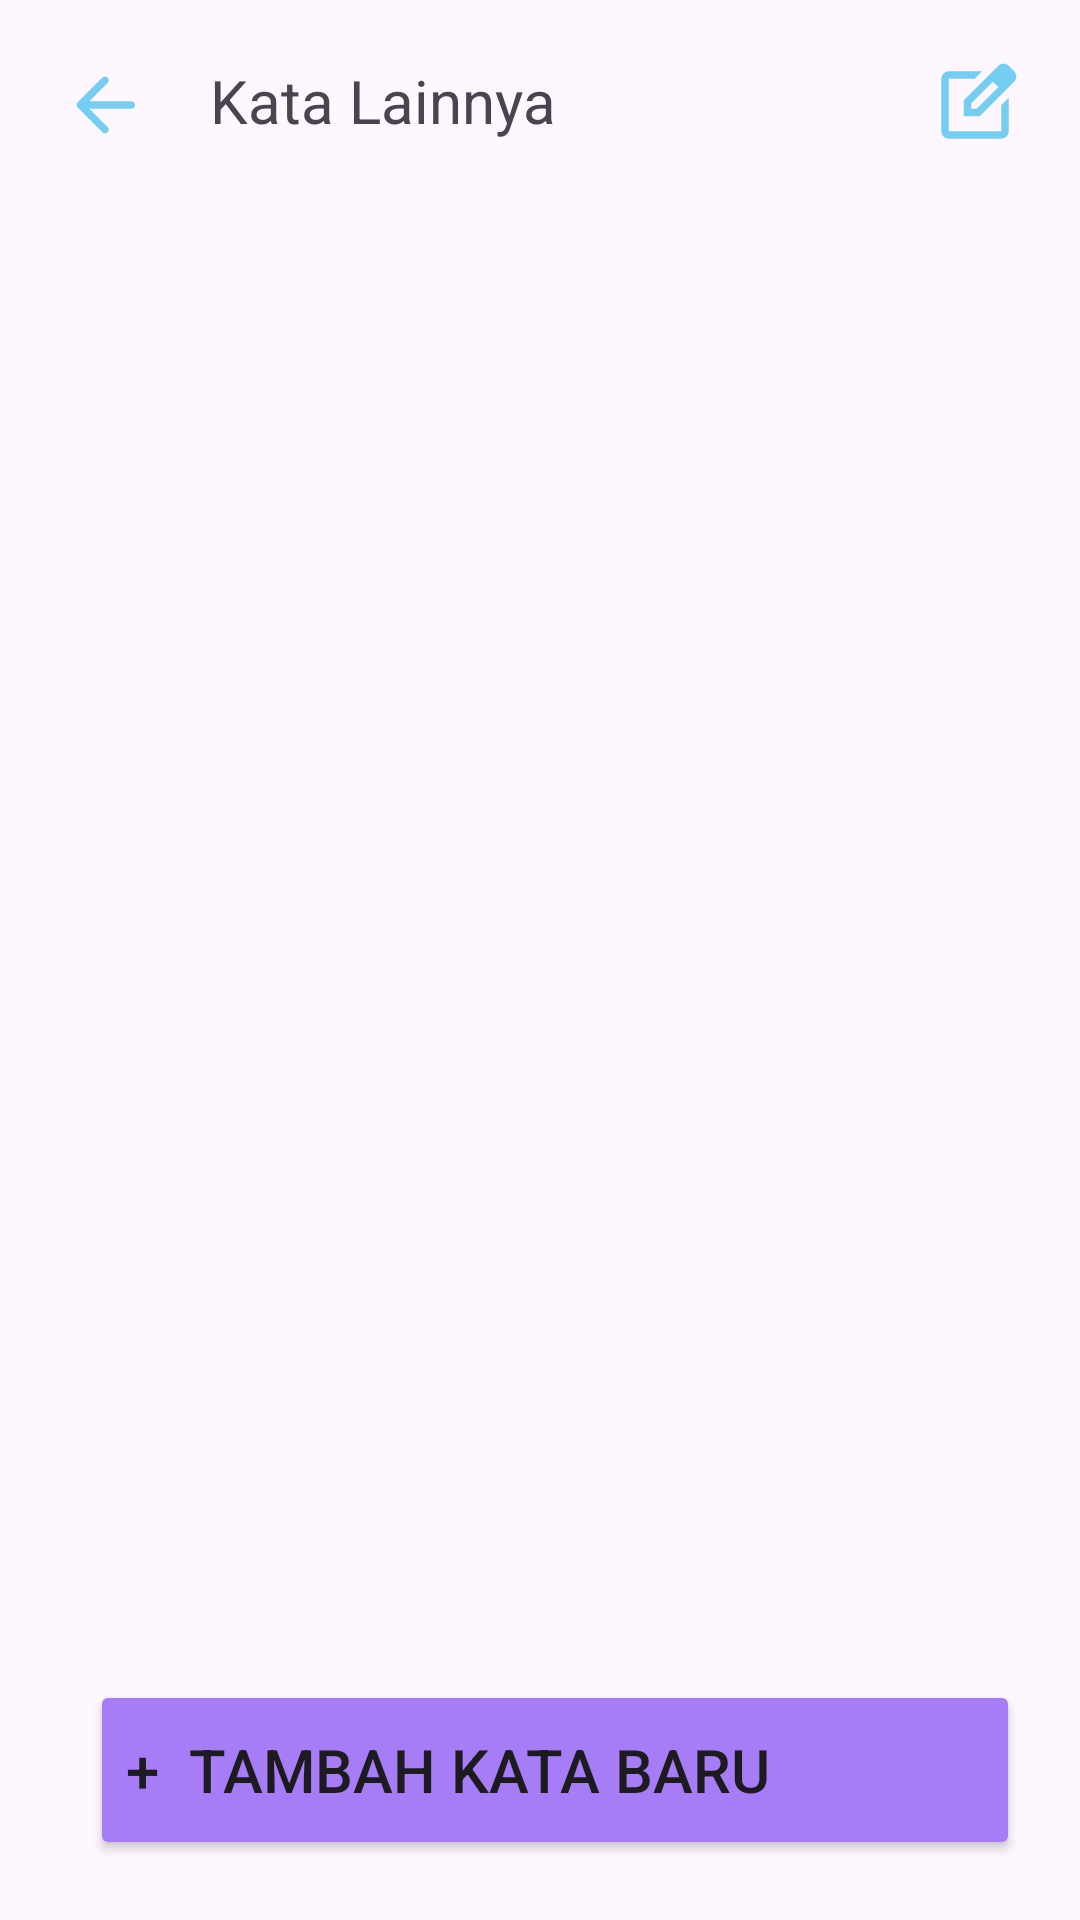

Locate icon controls on the screen. Image size 1080×1920, boxes as (x1=x1, y1=y1, x2=x2, y2=y2).
arrow back: (x1=76, y1=76, x2=135, y2=134)
edit square: (x1=941, y1=63, x2=1017, y2=139)
